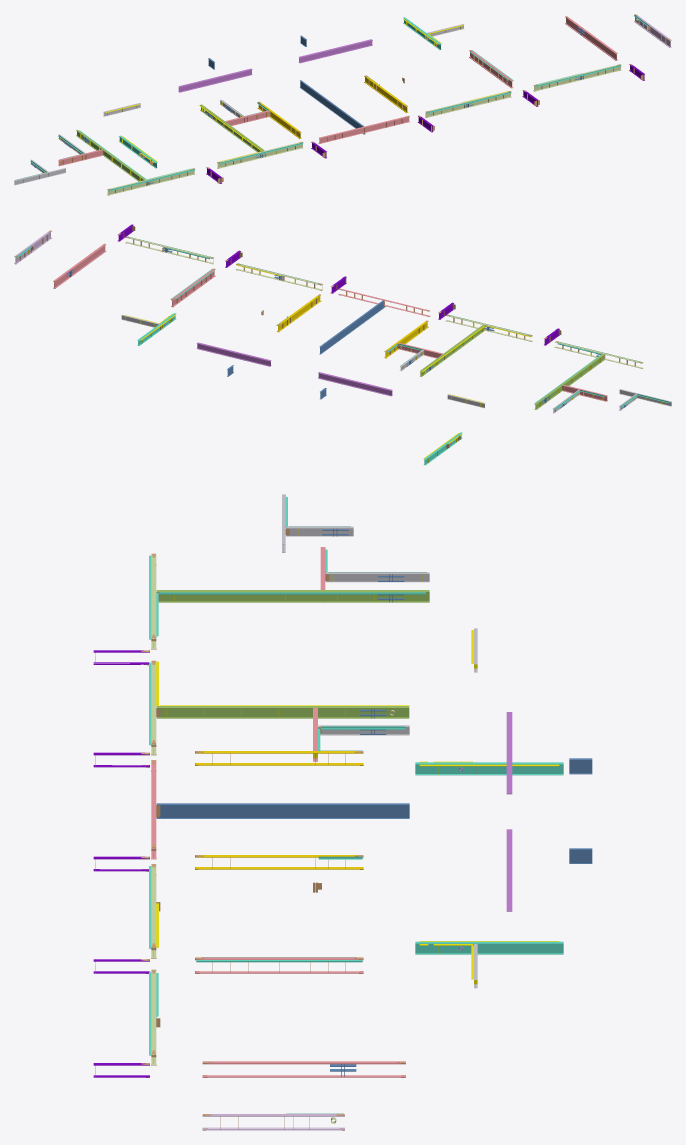
The picture shows the model from 3 angles, top to bottom: view 1: azimuth 30°, elevation 25°; view 2: azimuth 150°, elevation 25°; view 3: azimuth 270°, elevation 25°; orthographic projection. The views are drawn at different scales.
Visible parts, largest first — view 1: 18-4GL[1Ur67R001DVZ4rEJ0vEJSv], 18-4GL[1Ur67R001DuZ4rEJ0vEJSv], 18-4GL[1Ur67R001DkZ4rEJ0vEJSv], 18-4GL[1Ur67R001DnZ4rEJ0vEJSv], 18-4GL[1Ur67R001DSZ4rEJ0vEJSv], 18-4GL[1Ur67R001DTZ4rEJ0vEJSv], 18-4GL[1Ur67R001DWZ4rEJ0vEJSv], 18-4GL[1Ur67R001DUZ4rEJ0vEJSv], 18-4GL[1Ur67R001DgZ4rEJ0vEJSv], 18-4GL[1Ur67R001DNZ4rEJ0vEJSv], 18-4GL[1Ur67R001DtZ4rEJ0vEJSv], 18-4GL[1Ur67R001DPZ4rEJ0vEJSv] (+6 smaller); view 2: 18-4GL[1Ur67R001DuZ4rEJ0vEJSv], 18-4GL[1Ur67R001DkZ4rEJ0vEJSv], 18-4GL[1Ur67R001DnZ4rEJ0vEJSv], 18-4GL[1Ur67R001DgZ4rEJ0vEJSv], 18-4GL[1Ur67R001DNZ4rEJ0vEJSv], 18-4GL[1Ur67R001DtZ4rEJ0vEJSv], 18-4GL[1Ur67R001DPZ4rEJ0vEJSv]; view 3: 18-4GL[1Ur67R001DuZ4rEJ0vEJSv], 18-4GL[1Ur67R001DgZ4rEJ0vEJSv], 18-4GL[1Ur67R001DtZ4rEJ0vEJSv], 18-4GL[1Ur67R001DoZ4rEJ0vEJSv], 18-3GL[1Ur67R0001S34rEJ0vEJSv], 18-4GL[1Ur67R001DNZ4rEJ0vEJSv], 18-4GL[1Ur67R001DfZ4rEJ0vEJSv], 18-4GL[1Ur67R001DQZ4rEJ0vEJSv], 18-4GL[1Ur67R001DPZ4rEJ0vEJSv], 18-4GL[1Ur67R001DOZ4rEJ0vEJSv], 18-4GL[1Ur67R001DRZ4rEJ0vEJSv].
Part boxes in pixels (x1=…): 18-4GL[1Ur67R001DVZ4rEJ0vEJSv]: x1=319, y1=116, x2=409, y2=143; 18-4GL[1Ur67R001DuZ4rEJ0vEJSv]: x1=300, y1=80, x2=363, y2=133; 18-4GL[1Ur67R001DkZ4rEJ0vEJSv]: x1=178, y1=68, x2=252, y2=92; 18-4GL[1Ur67R001DnZ4rEJ0vEJSv]: x1=298, y1=39, x2=372, y2=63; 18-4GL[1Ur67R001DSZ4rEJ0vEJSv]: x1=107, y1=169, x2=194, y2=195; 18-4GL[1Ur67R001DTZ4rEJ0vEJSv]: x1=533, y1=64, x2=621, y2=91; 18-4GL[1Ur67R001DWZ4rEJ0vEJSv]: x1=425, y1=92, x2=511, y2=117; 18-4GL[1Ur67R001DUZ4rEJ0vEJSv]: x1=217, y1=142, x2=303, y2=168; 18-4GL[1Ur67R001DgZ4rEJ0vEJSv]: x1=76, y1=130, x2=145, y2=181; 18-4GL[1Ur67R001DNZ4rEJ0vEJSv]: x1=565, y1=17, x2=617, y2=60; 18-4GL[1Ur67R001DtZ4rEJ0vEJSv]: x1=200, y1=104, x2=264, y2=152; 18-4GL[1Ur67R001DPZ4rEJ0vEJSv]: x1=469, y1=50, x2=513, y2=88; 18-4GL[1Ur67R001DuZ4rEJ0vEJSv]: x1=319, y1=300, x2=384, y2=354; 18-4GL[1Ur67R001DkZ4rEJ0vEJSv]: x1=318, y1=372, x2=392, y2=396; 18-4GL[1Ur67R001DnZ4rEJ0vEJSv]: x1=197, y1=342, x2=271, y2=366; 18-4GL[1Ur67R001DgZ4rEJ0vEJSv]: x1=534, y1=354, x2=604, y2=409; 18-4GL[1Ur67R001DNZ4rEJ0vEJSv]: x1=53, y1=244, x2=106, y2=288; 18-4GL[1Ur67R001DtZ4rEJ0vEJSv]: x1=419, y1=325, x2=484, y2=376; 18-4GL[1Ur67R001DPZ4rEJ0vEJSv]: x1=171, y1=269, x2=215, y2=306; 18-4GL[1Ur67R001DuZ4rEJ0vEJSv]: x1=156, y1=803, x2=409, y2=818; 18-4GL[1Ur67R001DgZ4rEJ0vEJSv]: x1=156, y1=590, x2=429, y2=602; 18-4GL[1Ur67R001DtZ4rEJ0vEJSv]: x1=156, y1=706, x2=409, y2=718; 18-4GL[1Ur67R001DoZ4rEJ0vEJSv]: x1=415, y1=941, x2=563, y2=954; 18-3GL[1Ur67R0001S34rEJ0vEJSv]: x1=415, y1=762, x2=563, y2=775; 18-4GL[1Ur67R001DNZ4rEJ0vEJSv]: x1=202, y1=1061, x2=405, y2=1077; 18-4GL[1Ur67R001DfZ4rEJ0vEJSv]: x1=325, y1=572, x2=429, y2=582; 18-4GL[1Ur67R001DQZ4rEJ0vEJSv]: x1=195, y1=751, x2=363, y2=765; 18-4GL[1Ur67R001DPZ4rEJ0vEJSv]: x1=195, y1=957, x2=363, y2=973; 18-4GL[1Ur67R001DOZ4rEJ0vEJSv]: x1=202, y1=1114, x2=344, y2=1130; 18-4GL[1Ur67R001DRZ4rEJ0vEJSv]: x1=195, y1=855, x2=363, y2=869.
Bounding box in the file's own units: 39.47 × 3.23 × 13.37.
